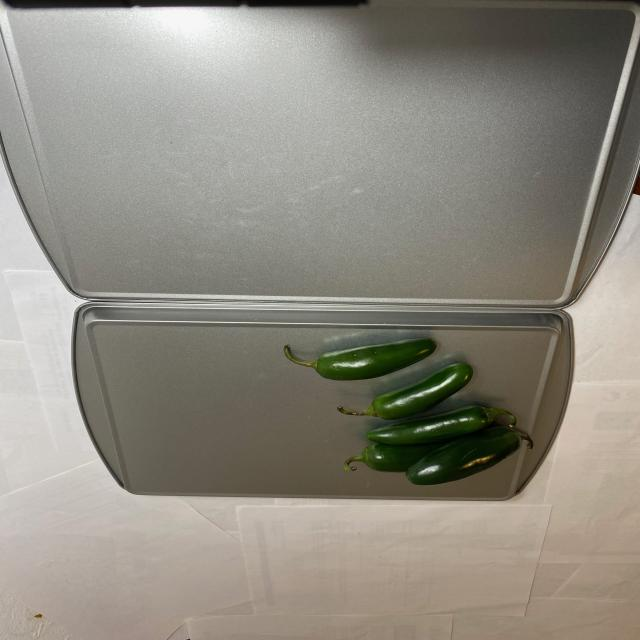chilli: (284, 329, 535, 487)
